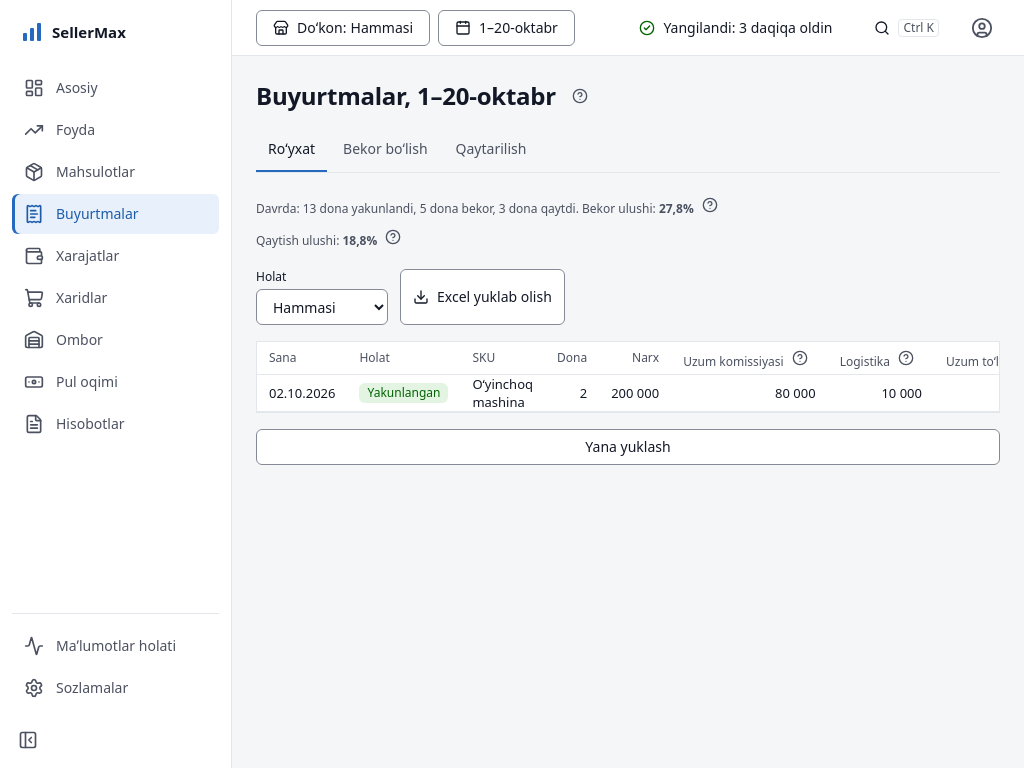
Test: roʻyxat › sahifalash: 'Yana yuklash' kursor bilan keyingi qatorlarni qo'shadi
expect the table named "Buyurtmalar: sotuv qatorlari" is shown: met, box [257,342,1000,412]
Click the button "Yana yuklash".
click(628, 447)  # box [256,429,1000,465]
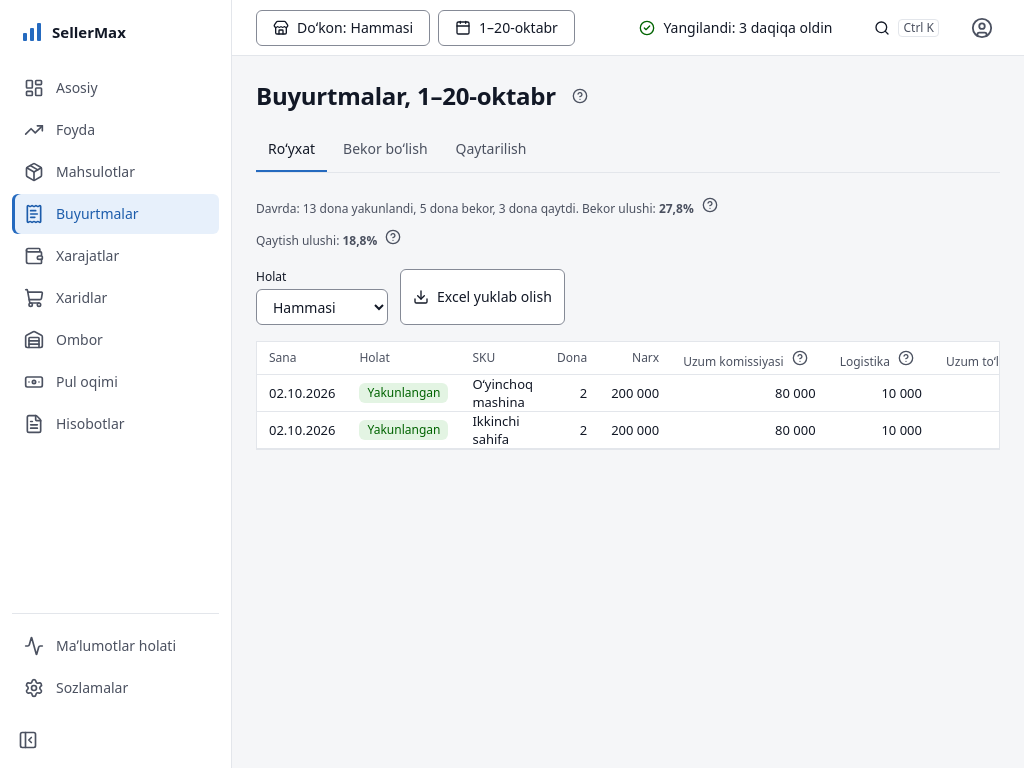
expect the text "Ikkinchi sahifa" is shown: met, box [460,412,545,449]
expect the button "Yana yuklash" is gone: met
